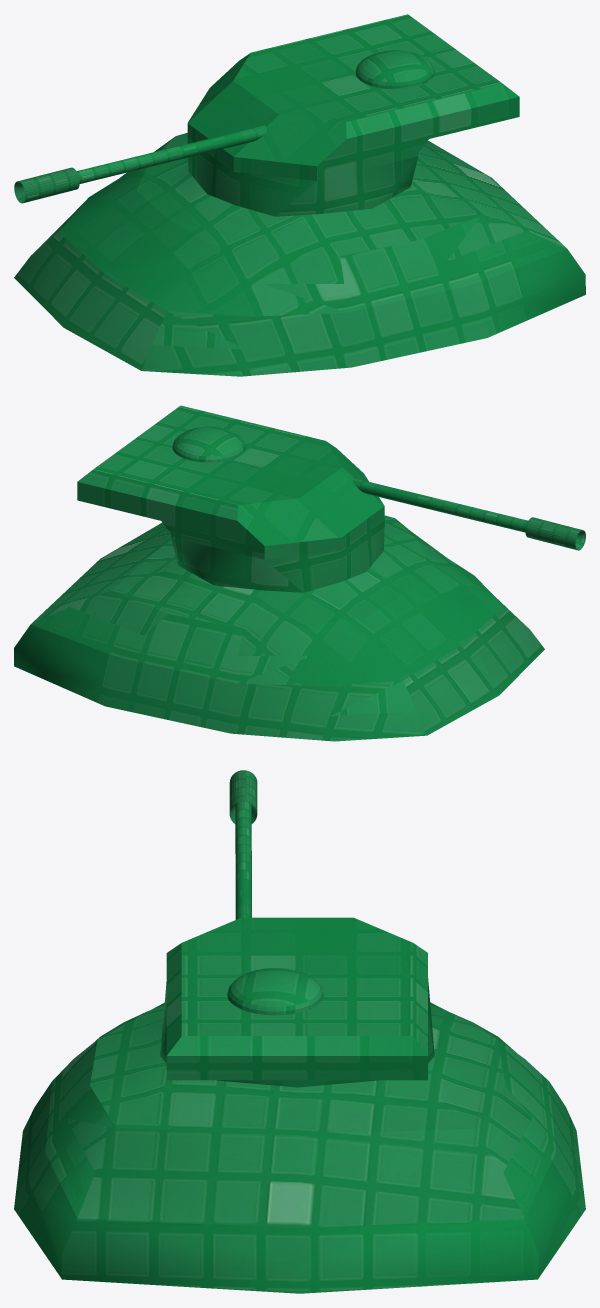
File: tradeFederationTank3.obj
3 renders of one model, top to bottom at view 1: azimuth 30°, elevation 25°; view 2: azimuth 150°, elevation 25°; view 3: azimuth 270°, elevation 25°, orthographic. The views are drawn at different scales.
Visible parts, largest first — view 1: Cube_Cube.001, Plane; view 2: Cube_Cube.001, Plane; view 3: Cube_Cube.001, Plane.
Part boxes in pixels (x1,y1,x2,y2): Cube_Cube.001: (14,14,585,376); Plane: (14,125,267,203); Cube_Cube.001: (14,405,544,741); Plane: (352,478,585,550); Cube_Cube.001: (14,917,585,1293); Plane: (229,770,257,919).
Size of the model in its own units: 15 by 5.5 by 11.82.
Materials: 2 (2 with a texture image).
